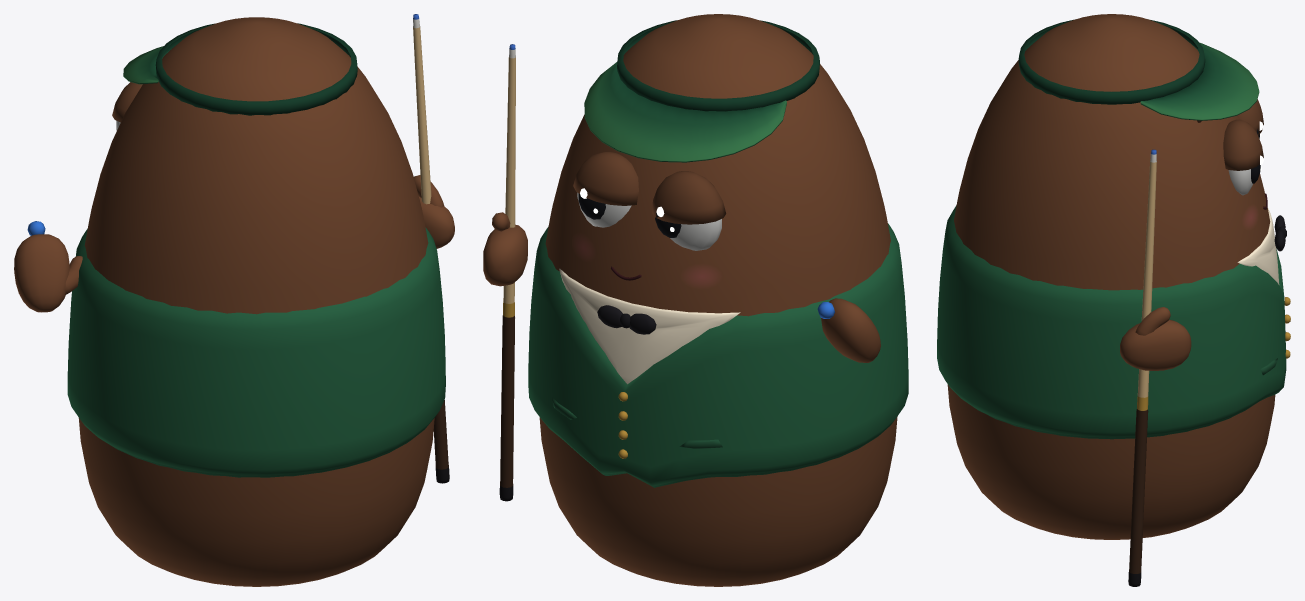
3 views of the same model, side by side, from view 1: azimuth 30°, elevation 25°; view 2: azimuth 150°, elevation 25°; view 3: azimuth 270°, elevation 25° (orthographic). The views are drawn at different scales.
Visible parts, largest first — view 1: body, hand.L, prop.R, hand.R, lid; view 2: body, lid, prop.R, hand.L, eyes, hand.R; view 3: body, prop.R, hand.R, lid, eyes.
Part boxes in pixels (x1,y1,x2,y2): body: (67,17,445,586); hand.L: (14,234,82,312); prop.R: (413,14,449,483); hand.R: (414,175,454,248); lid: (112,82,142,122); body: (528,14,908,586); lid: (573,152,726,224); prop.R: (499,44,515,501); hand.L: (821,298,880,362); eyes: (577,188,721,250); hand.R: (483,212,527,286); body: (937,14,1290,539); prop.R: (1128,149,1156,586); hand.R: (1120,307,1191,370); lid: (1223,99,1263,170); eyes: (1228,121,1263,195).
Size of the model in its own units: 1.34 by 1.63 by 1.09.
